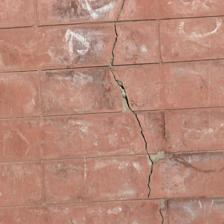Crack: (39, 16, 123, 116), (9, 101, 59, 124), (0, 117, 45, 135)
